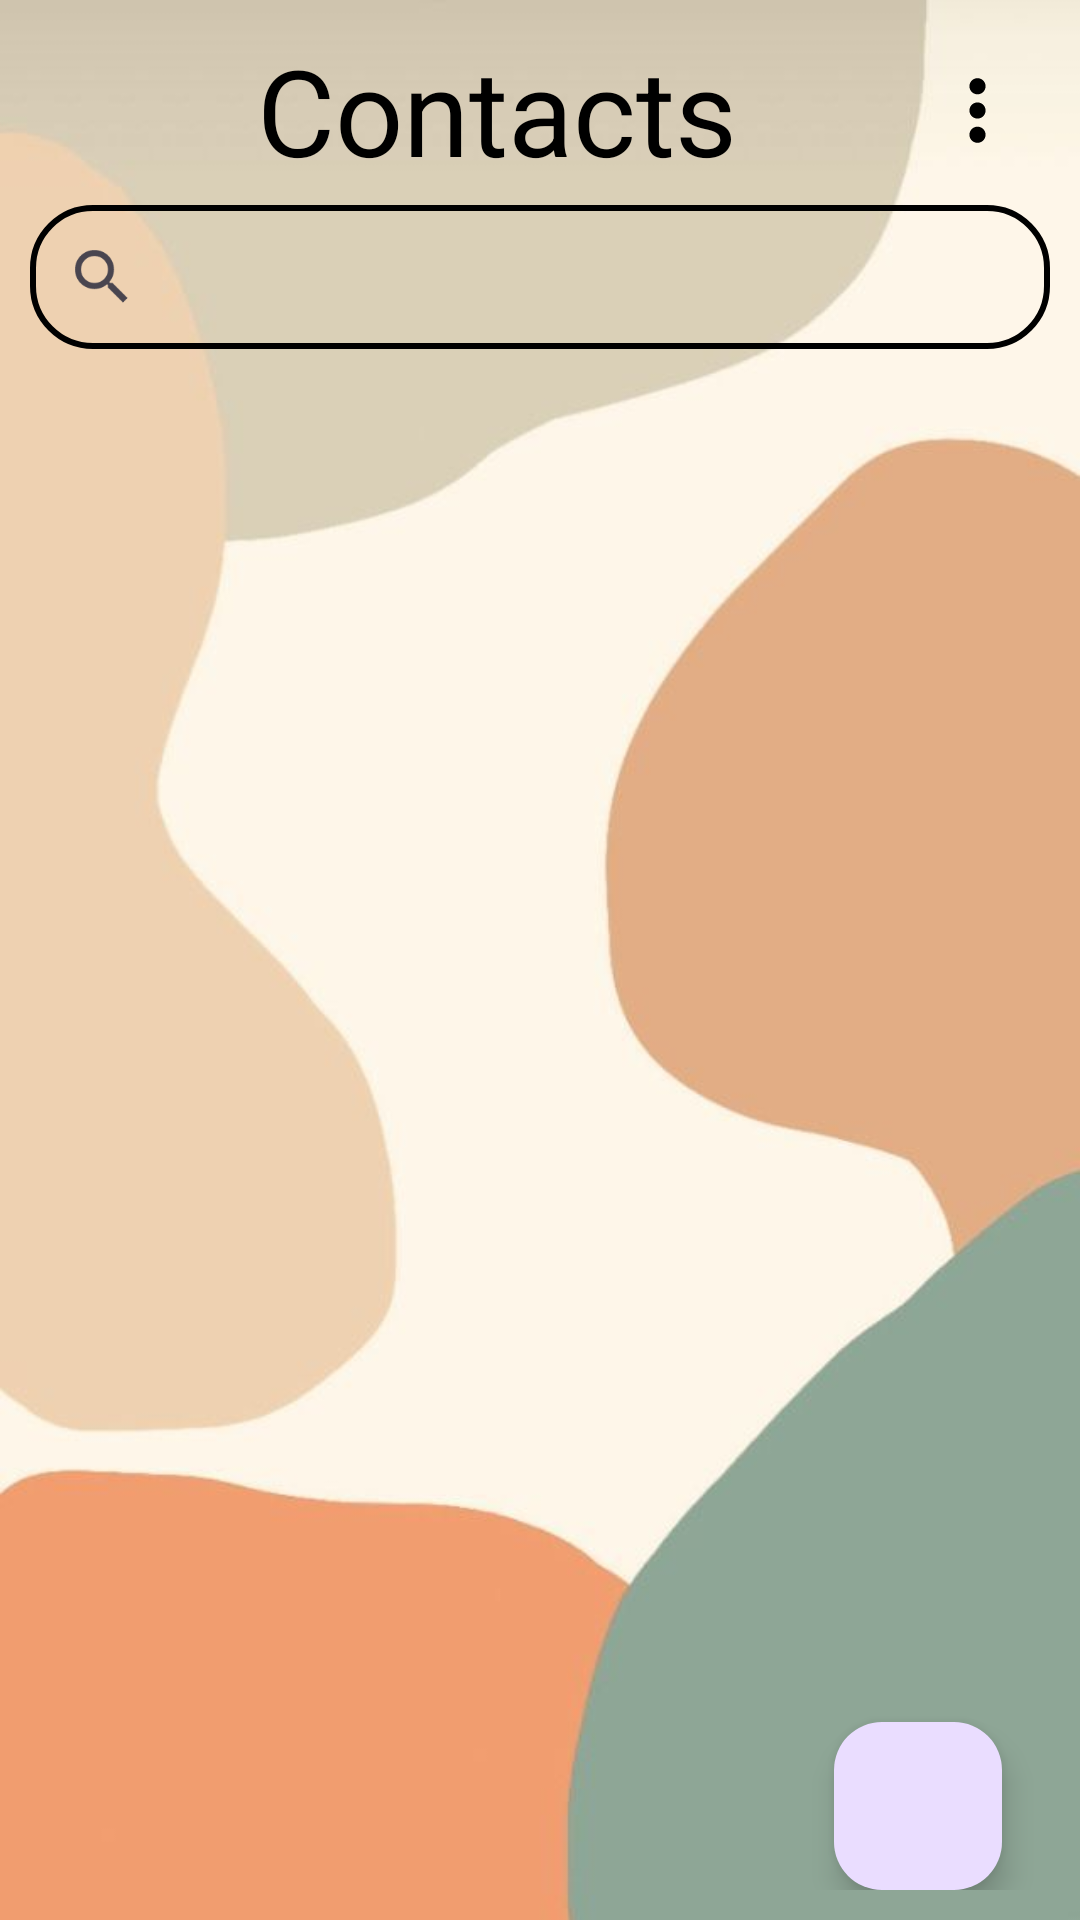

Icons on this 1080*1920 Android screen, each with its box as detection(x1, y1, x2, y2):
more vert: detection(969, 78, 986, 143)
